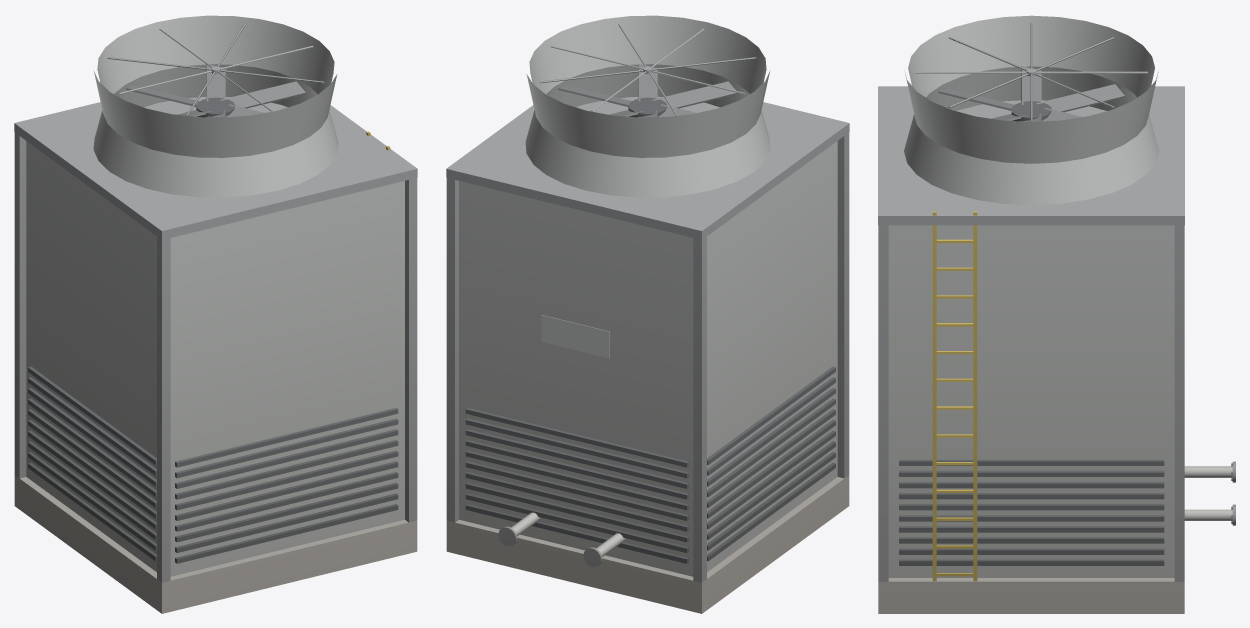
Rendered from coolingTower_steel.glb.
3 views of the same model, side by side, from view 1: azimuth 30°, elevation 25°; view 2: azimuth 150°, elevation 25°; view 3: azimuth 270°, elevation 25° (orthographic). The views are drawn at different scales.
Visible parts, largest first — view 1: coolingTower_steel; view 2: coolingTower_steel; view 3: coolingTower_steel.
Boxes of the visible parts, x1,y1,x2,y2 form: coolingTower_steel: (14,15,417,613); coolingTower_steel: (446,15,849,613); coolingTower_steel: (878,15,1235,613).
Bounding box in the file's own units: 3.01 × 5.2 × 3.5.
